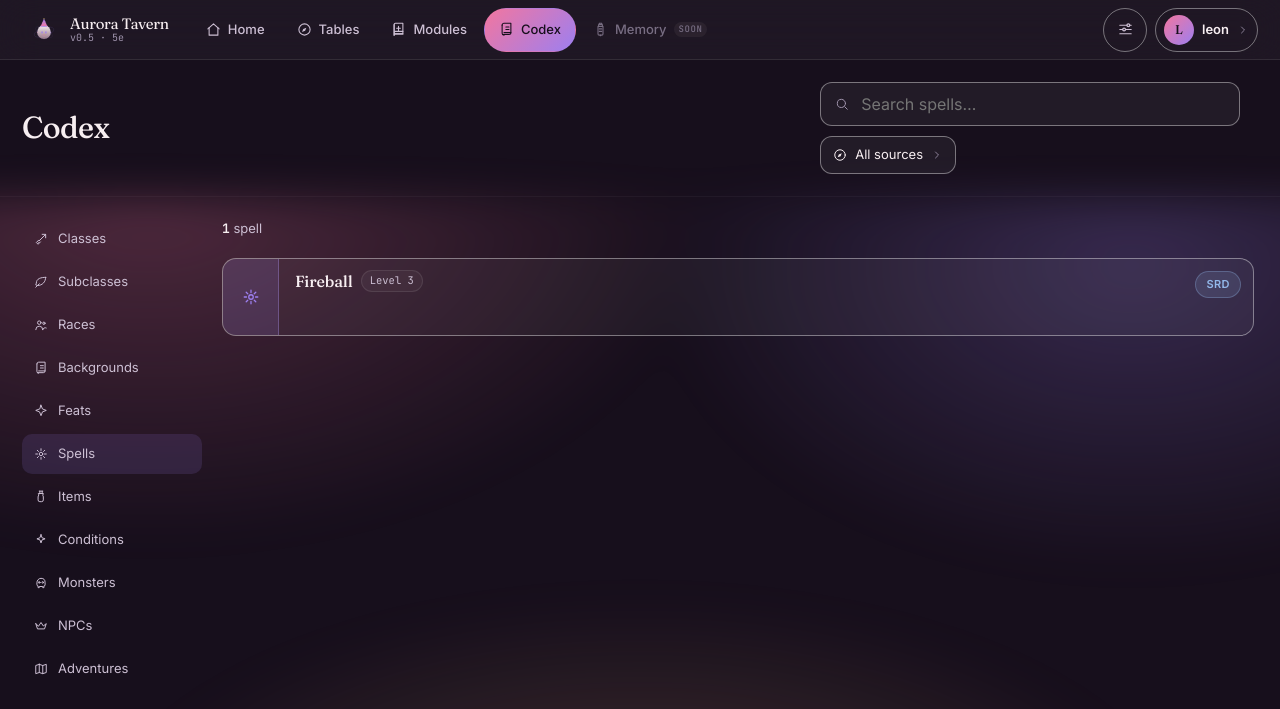
it: itemsSource invariant — page.tsx kindReady gate (Kage-CR #8, DDX21-1 extension) › switching source at a FIXED kind never renders the stale source's monster row under the new source
The image size is (1280, 709).
Expected: the option "Fireball Level 3 SRD" is shown, [222,258,1254,336]
Click the tab "Monsters": (112, 582) [22,562,202,602]
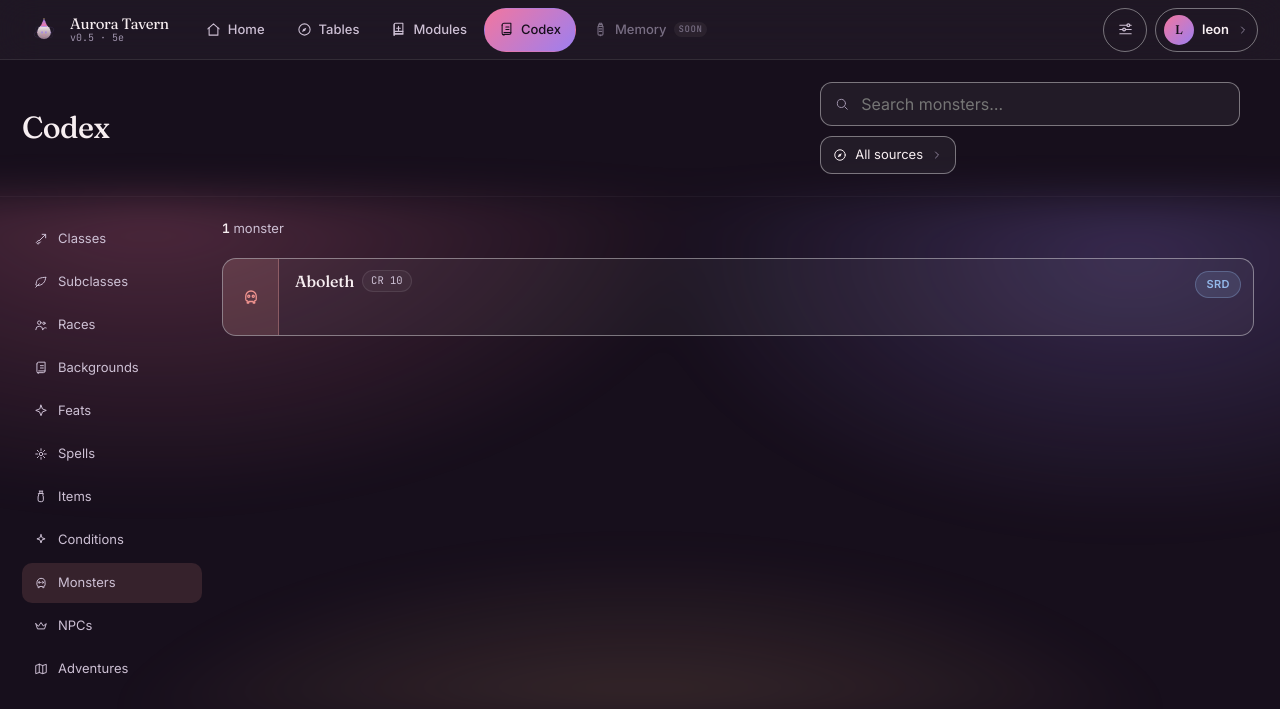
Now the option "Aboleth CR 10 SRD" is shown, box [222,258,1254,336]
Click the dropdown named "content source": (888, 155) [820,136,956,174]
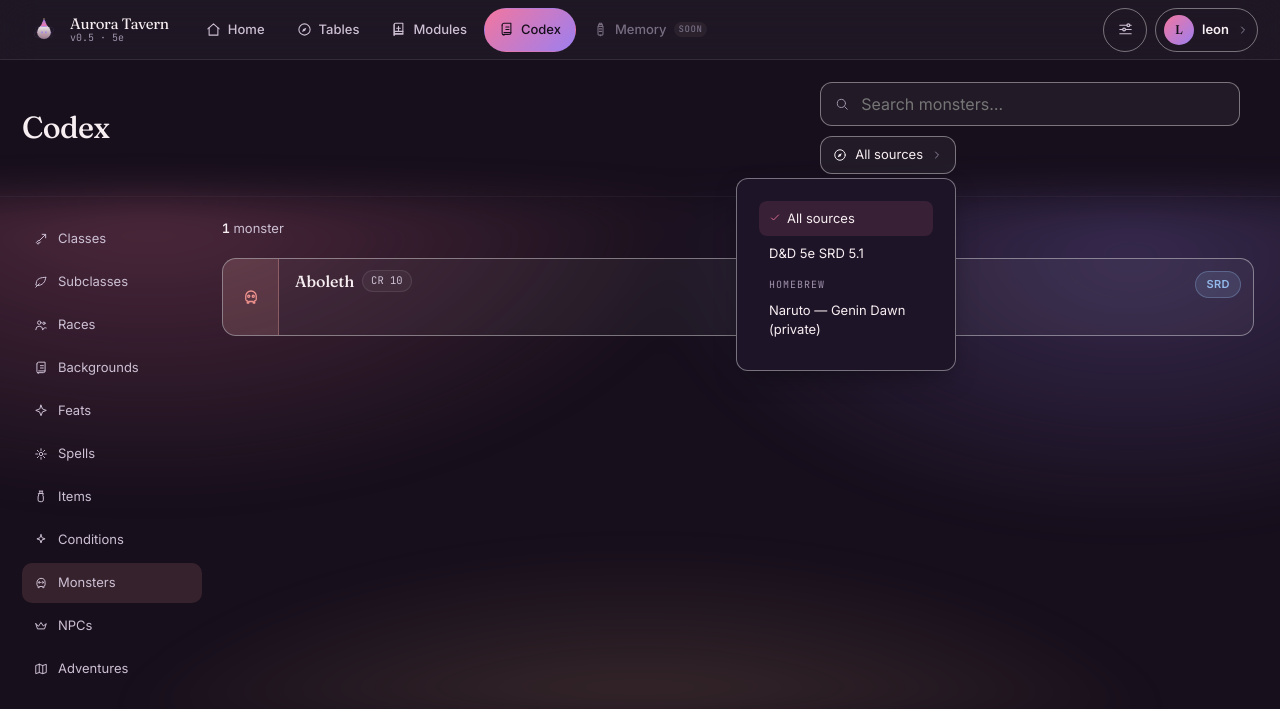
Click the option "Naruto — Genin Dawn (private)": (837, 319) [769,302,905,337]
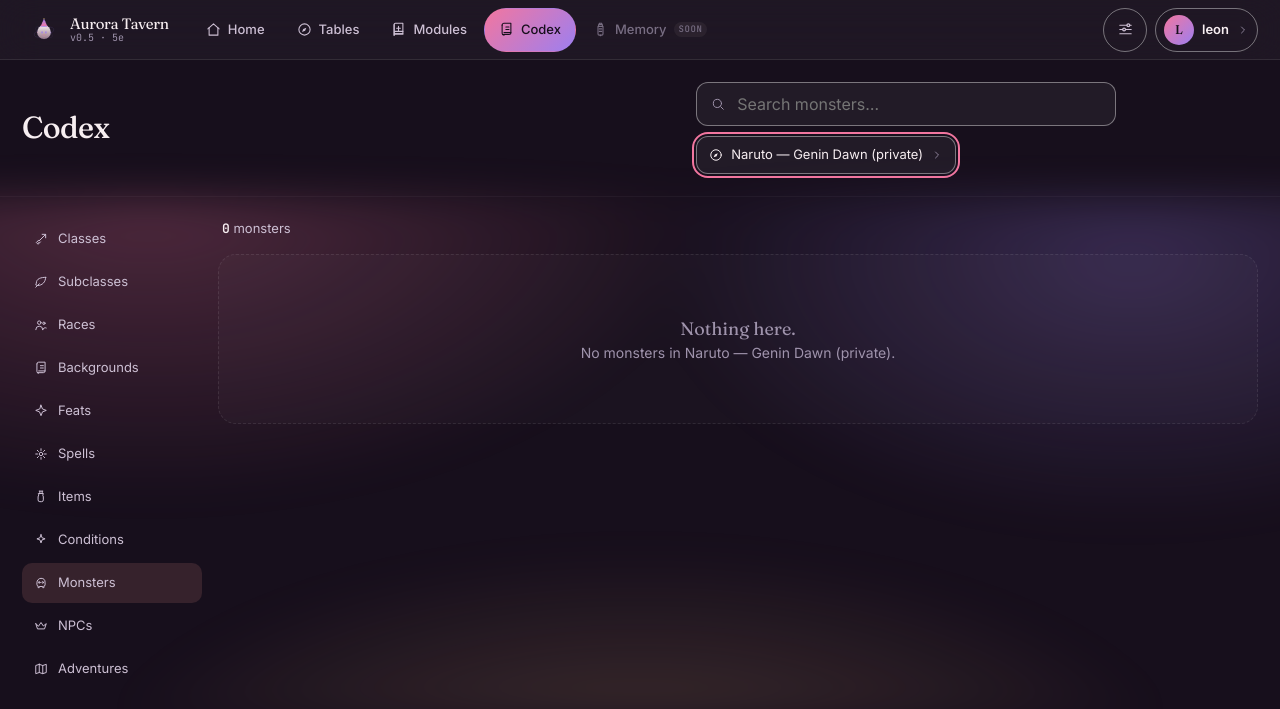
Now the option "Aboleth" is gone
Now the text "No monsters in Naruto — Genin Dawn (private)." is shown, box [581,344,895,361]
